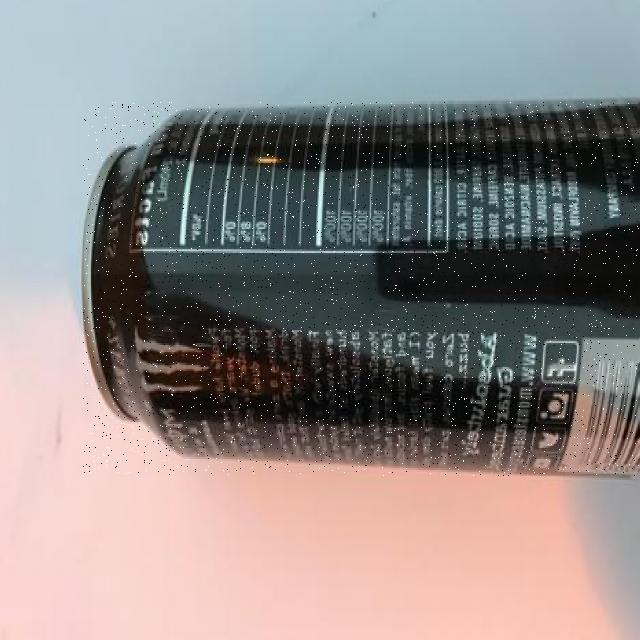metal: (84, 102, 639, 475)
